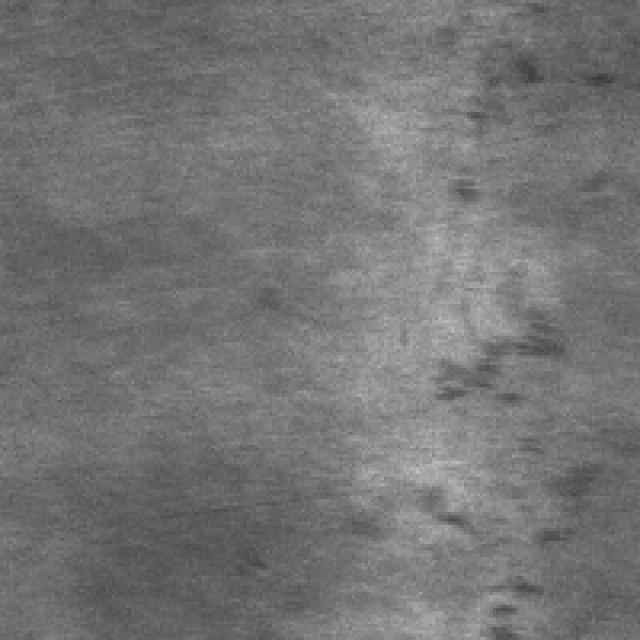rolled-in_scale: (413, 304, 592, 637), (438, 29, 602, 205)
